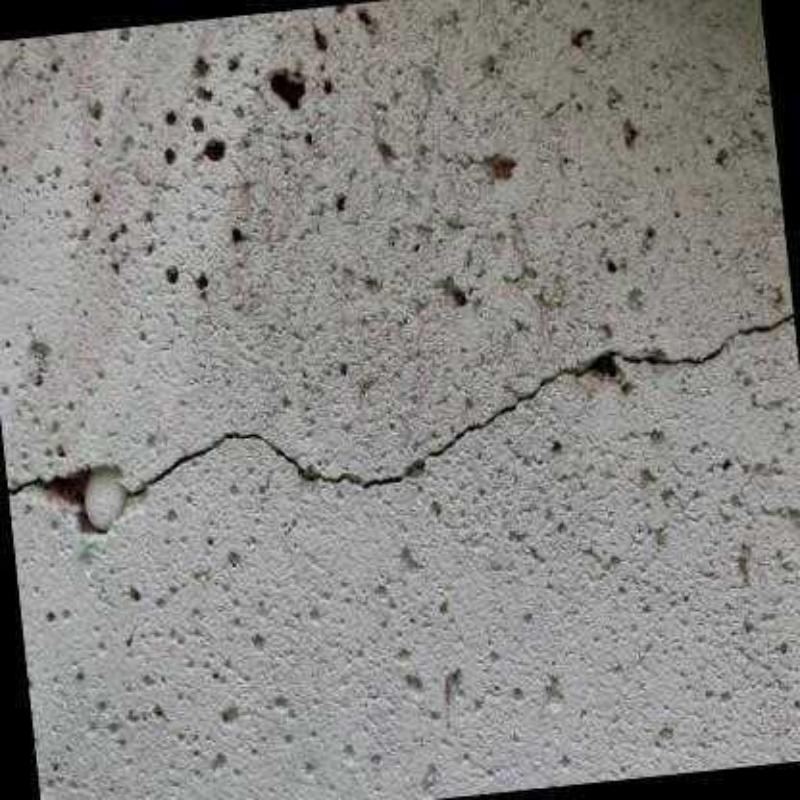pothole: (7, 312, 794, 534)
